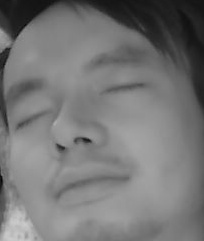blink: (101, 78, 144, 100), (15, 106, 52, 128)
mouth: (49, 157, 127, 208)
